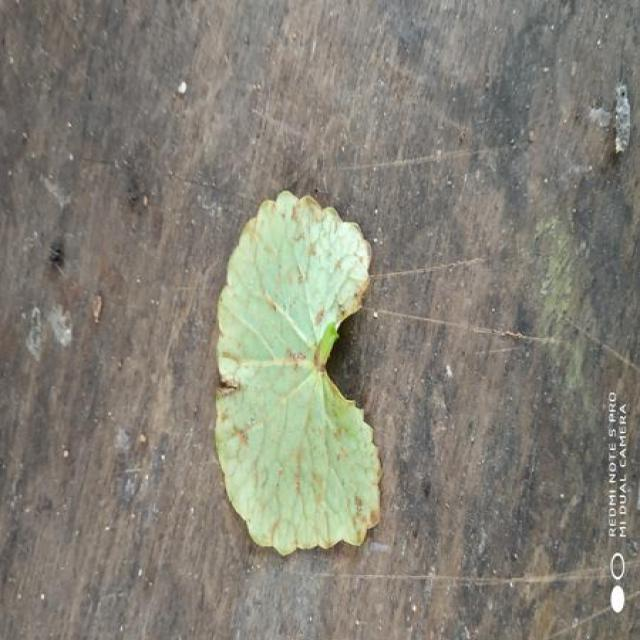defectedbhrami: (215, 191, 380, 554)
